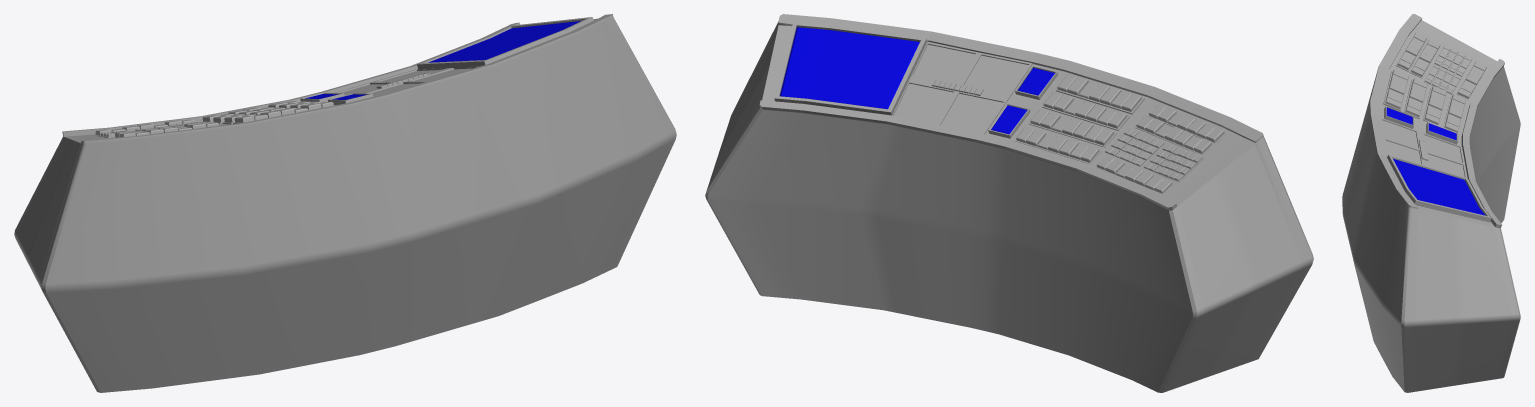
Rendered from SM_BigComputer_A_01.fbx.
3 renders of one model, left to right at view 1: azimuth 30°, elevation 25°; view 2: azimuth 150°, elevation 25°; view 3: azimuth 270°, elevation 25°, orthographic. The views are drawn at different scales.
Parts seen in each view (by area): view 1: SM_Ordi_04; view 2: SM_Ordi_04; view 3: SM_Ordi_04.
Part boxes in pixels (x1=…): SM_Ordi_04: x1=14, y1=14, x2=676, y2=392; SM_Ordi_04: x1=705, y1=14, x2=1313, y2=392; SM_Ordi_04: x1=1342, y1=14, x2=1520, y2=392.
Bounding box in the file's own units: 257 × 97.02 × 84.07.
